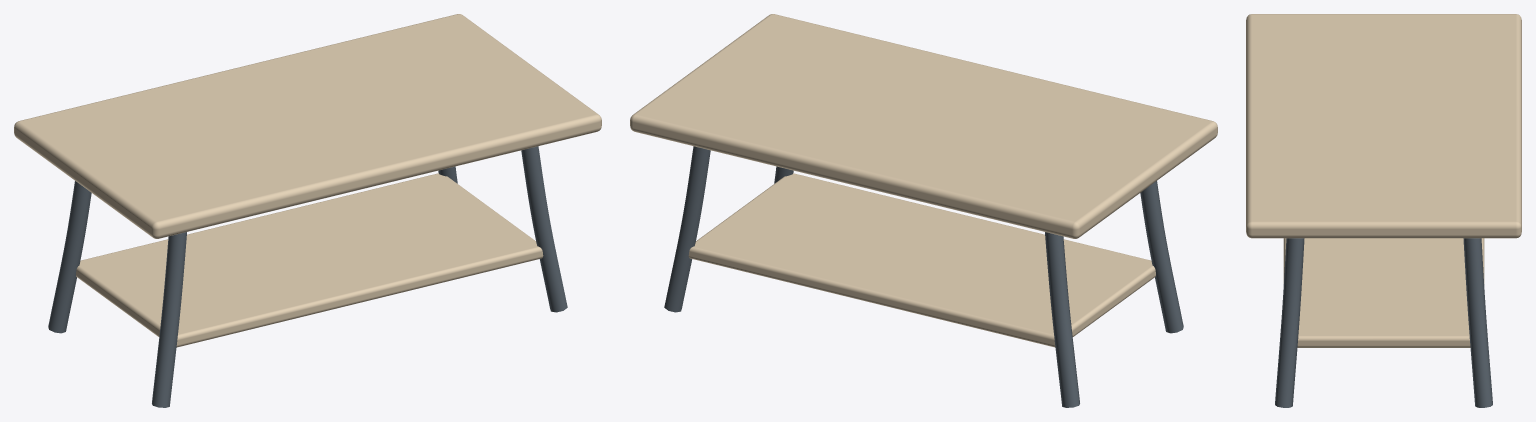
The model's file is coffee-table.glb.
3 renders of one model, left to right at view 1: azimuth 30°, elevation 25°; view 2: azimuth 150°, elevation 25°; view 3: azimuth 270°, elevation 25°, orthographic. The views are drawn at different scales.
Visible parts, largest first — view 1: coffee-table; view 2: coffee-table; view 3: coffee-table.
Boxes of the visible parts, x1,y1,x2,y2 form: coffee-table: (14, 14, 601, 407); coffee-table: (630, 14, 1217, 407); coffee-table: (1246, 14, 1521, 407).
Bounding box in the file's own units: 1 × 0.43 × 0.55.
